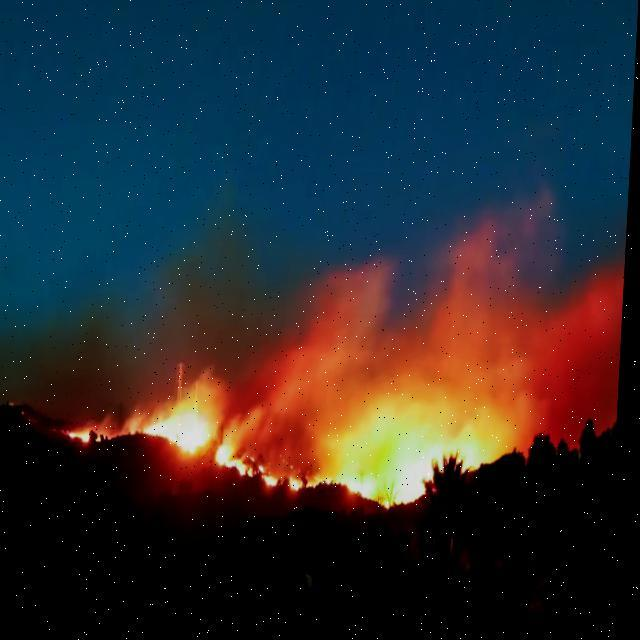Fire: (290, 386, 518, 516), (133, 376, 220, 466), (218, 430, 288, 496), (68, 422, 120, 447), (12, 396, 22, 409)
